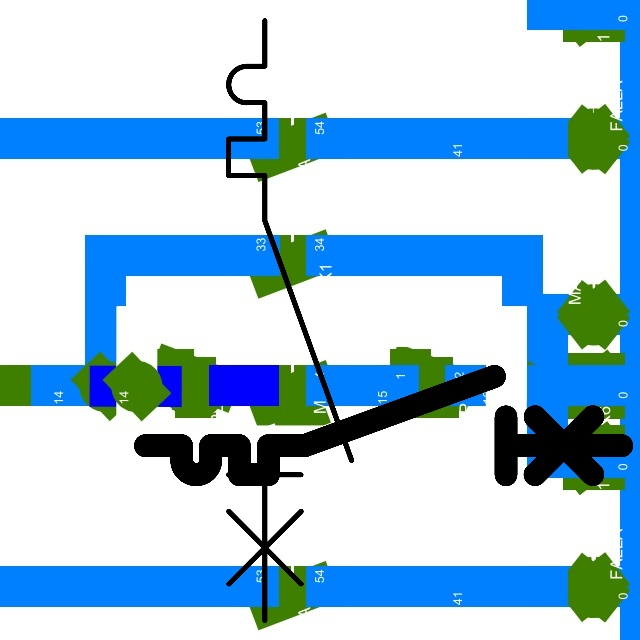interruptor_termomagnetico: (213, 5, 367, 635), (133, 364, 634, 487)
